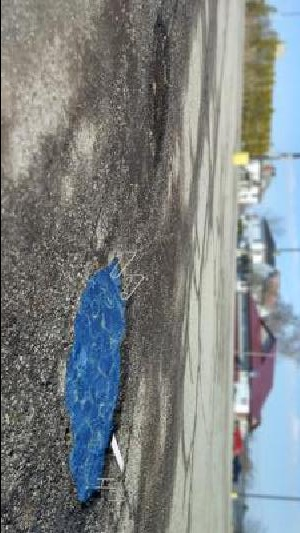pothole: (65, 253, 135, 510), (146, 14, 173, 169)
